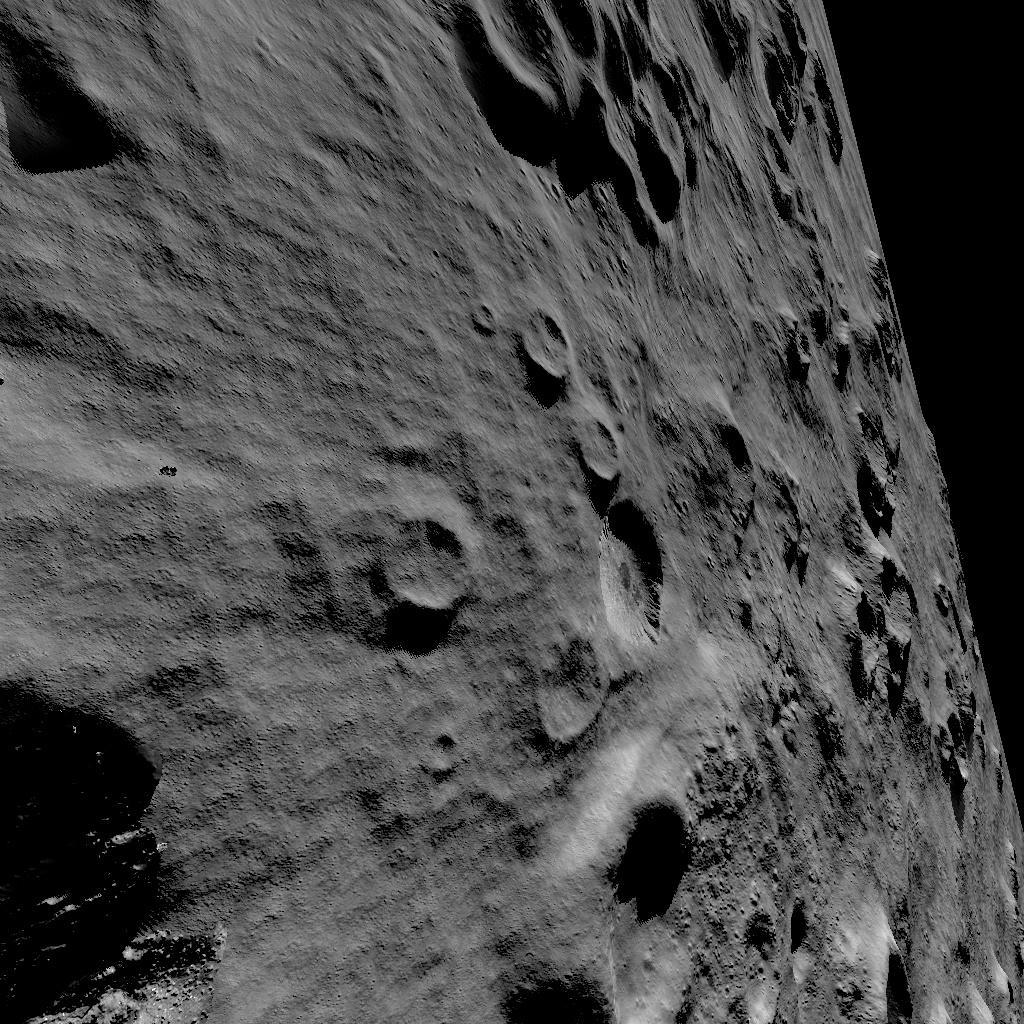Crater: (0, 662, 221, 1024), (435, 0, 692, 233), (547, 782, 711, 1022), (513, 496, 674, 740), (1, 2, 157, 186), (711, 0, 850, 172), (759, 242, 912, 392), (839, 546, 930, 712), (739, 890, 824, 1024), (367, 510, 472, 618), (825, 414, 916, 538), (857, 928, 935, 1024), (707, 412, 764, 528), (513, 304, 578, 385), (563, 416, 634, 481), (941, 688, 991, 780)
Plan surface: (5, 202, 351, 650), (243, 678, 490, 1024), (171, 0, 419, 192)
